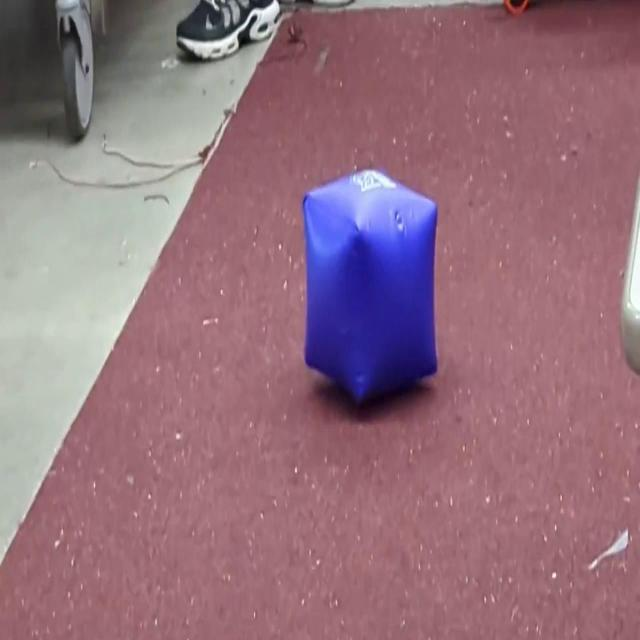frc_cube: (301, 163, 439, 409)
